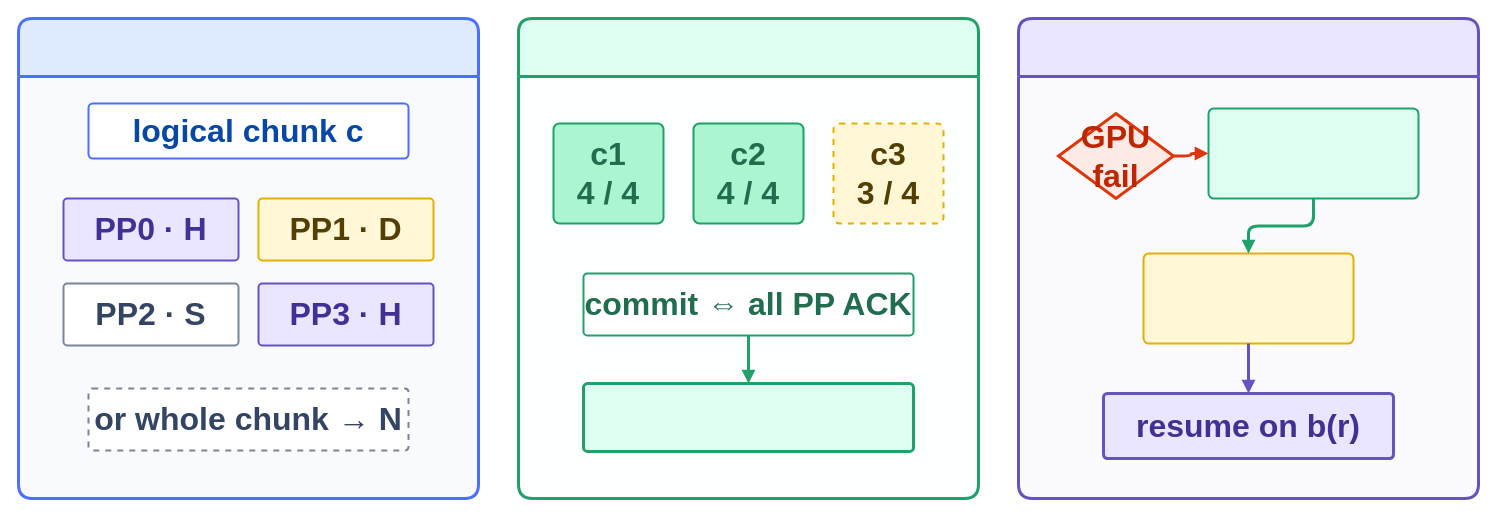
This 1497x517 diagram has some shape labels left out. The shapes that lost their labels are listed below. From the top down, each one's box as (x1, y1, x2, y2) in pixels, then its label:
(1207, 107, 1419, 199): restore c1–c2
(16, 16, 480, 500): A Per-stage placement
(516, 16, 980, 500): B All-stage commit
(1016, 16, 1480, 500): C GPU-failure recovery
(1142, 252, 1354, 344): recompute c3+
(582, 382, 914, 452): safe frontier = c2
